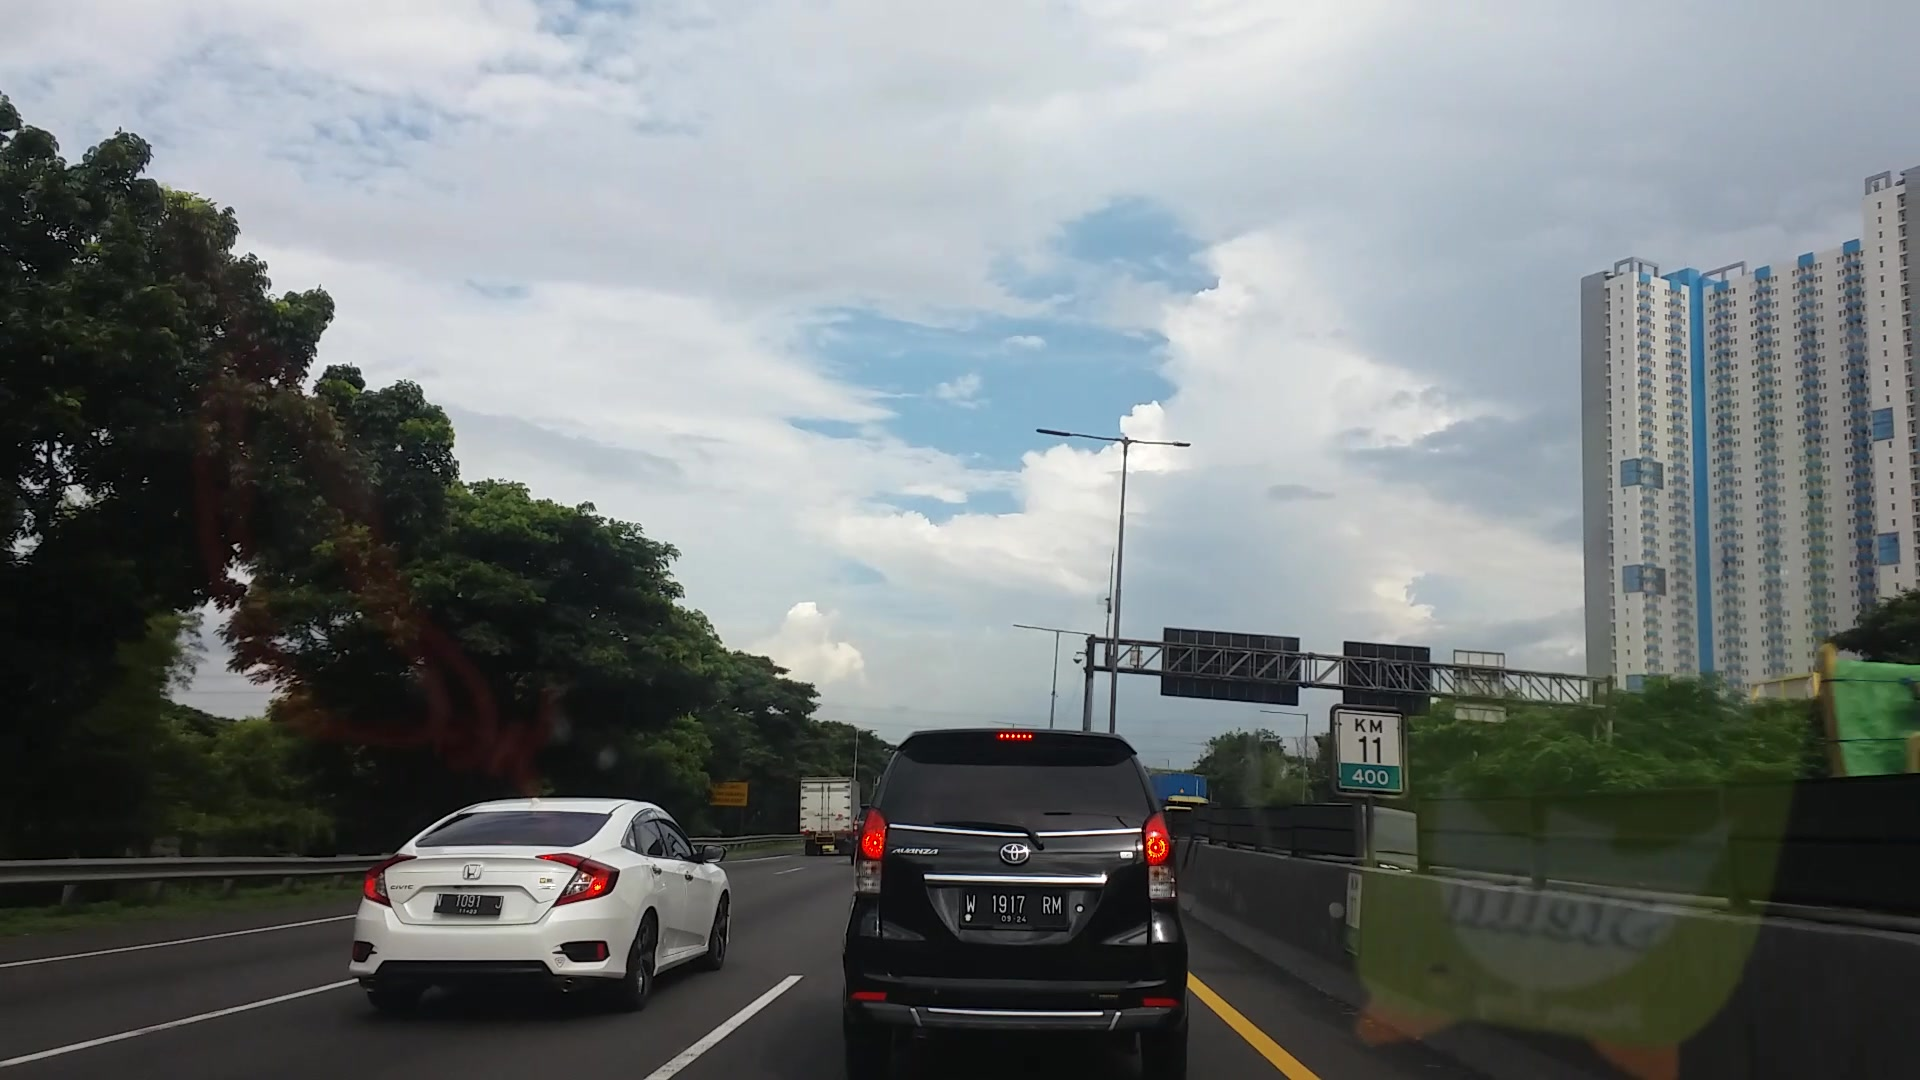plate_positive: (960, 889, 1065, 924)
